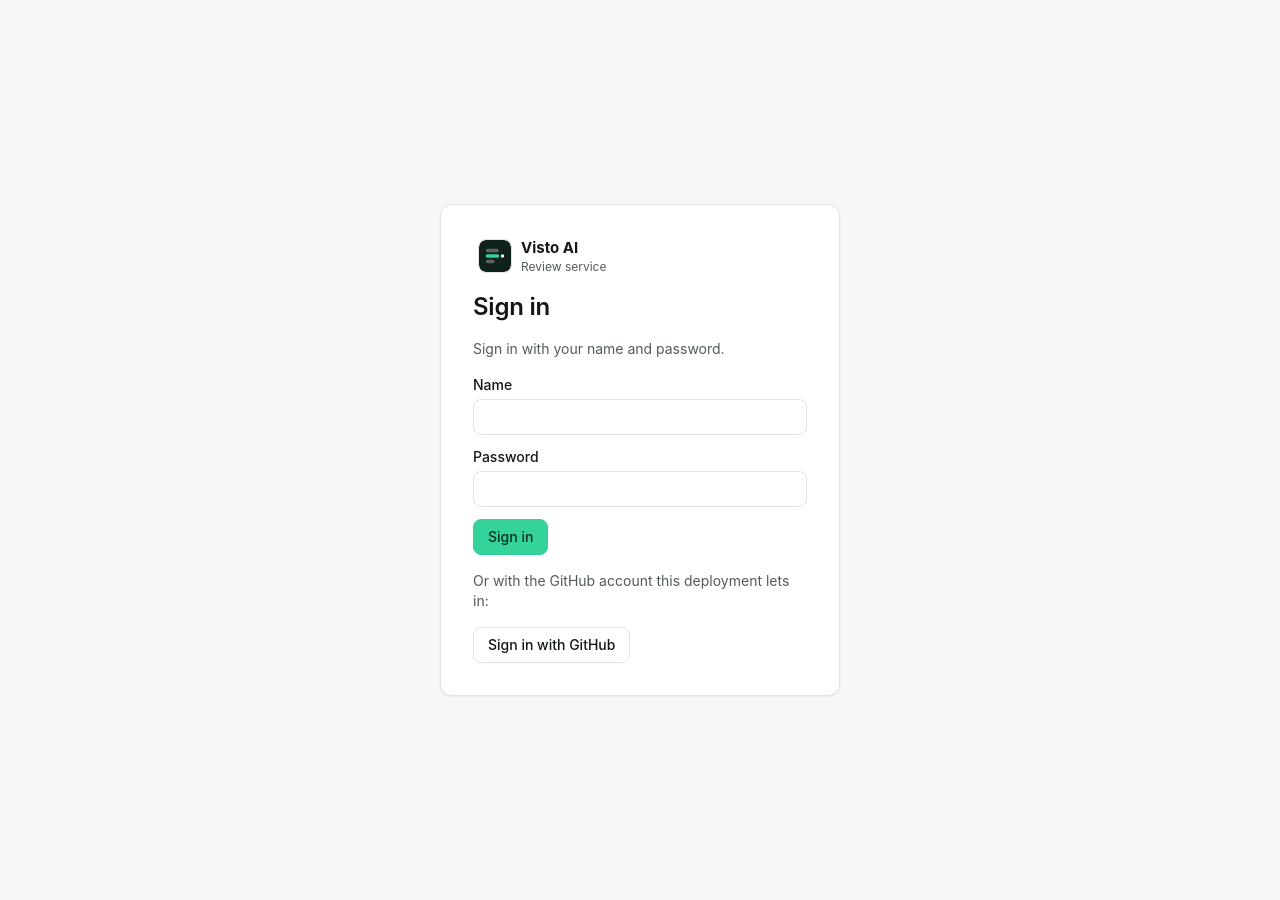
Scenario: a password sign-in reads who is signed in again and opens the page, and a refusal is said on the page
This screenshot has width=1280, height=900.
Type "octo-admin" into the field labelled "Name".
click(640, 417); type("octo-admin")  # box 473,399 -> 807,435
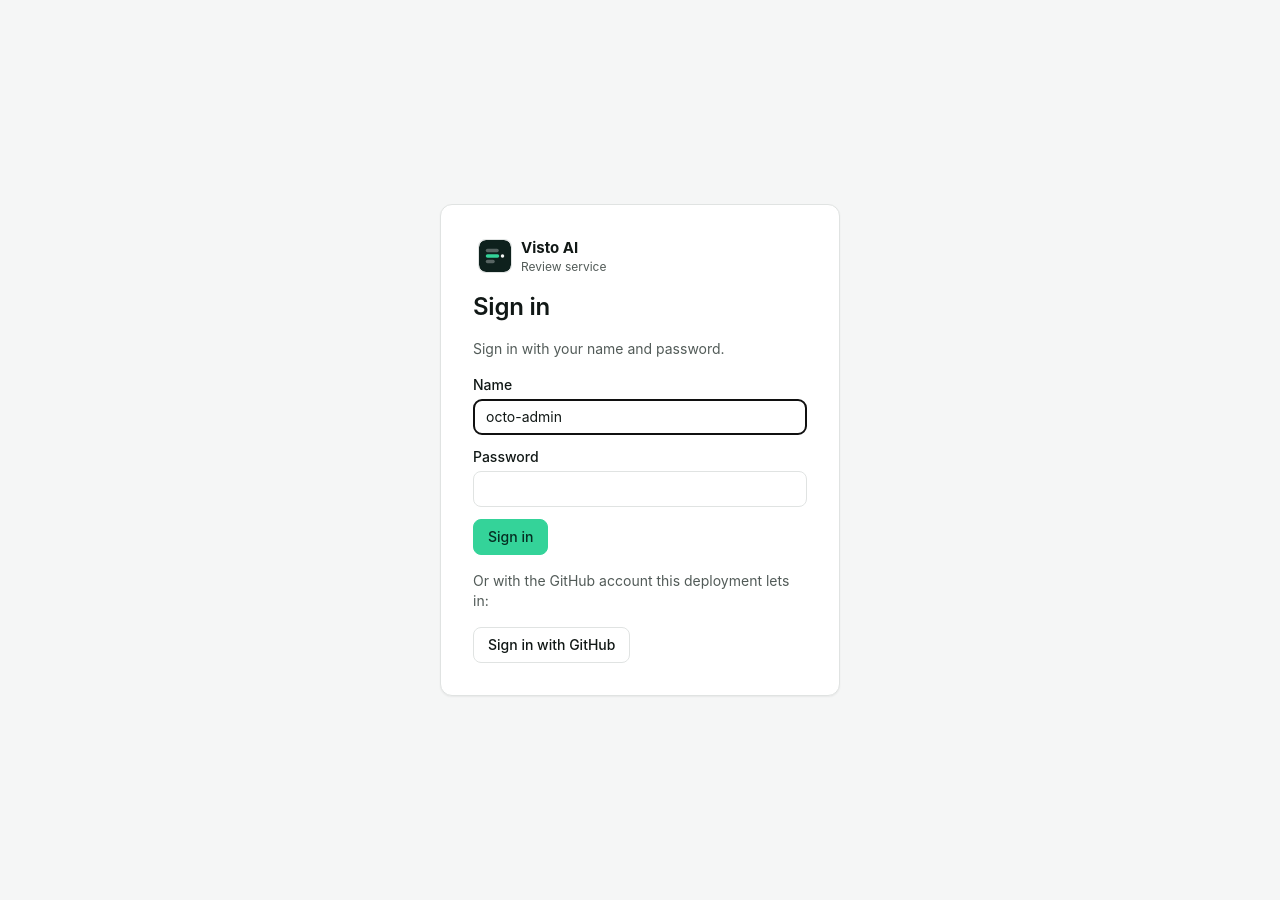
Type "another long password" into the password field labelled "Password".
click(640, 489); type("another long password")  # box 473,471 -> 807,507
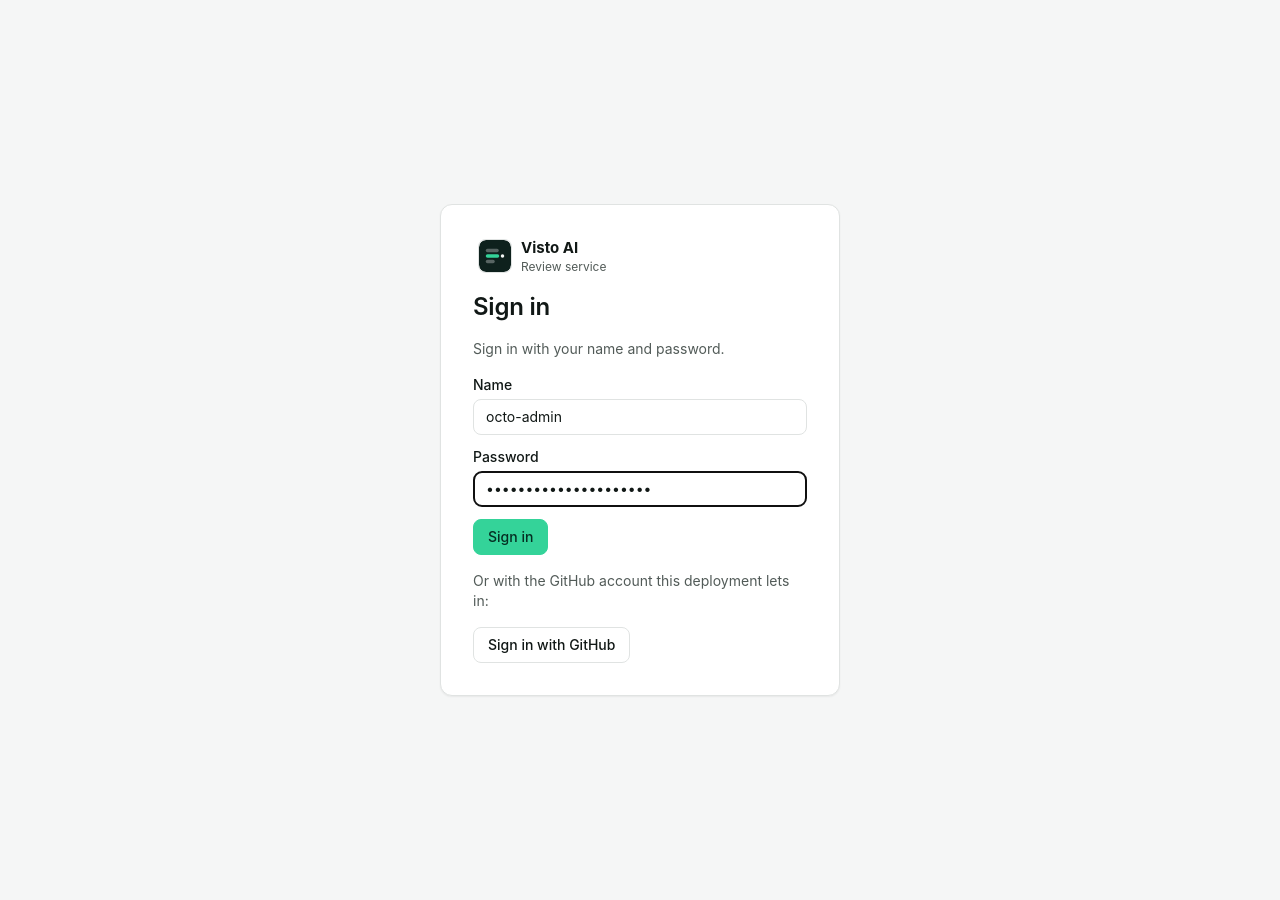
Click the button "Sign in".
click(511, 537)  # box 473,519 -> 548,555
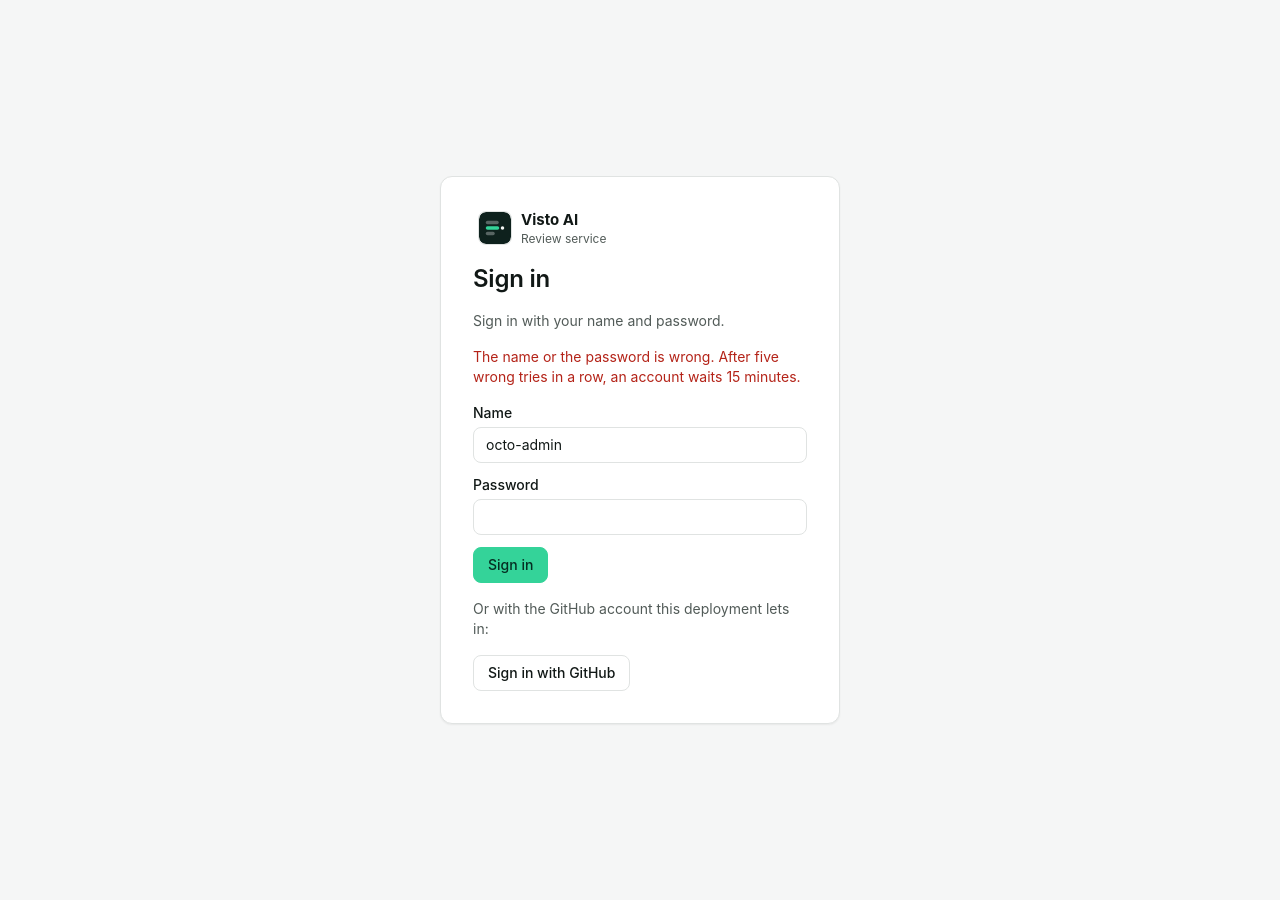
Check: the message shows "The name or the password is wrong.", box 473,348 -> 801,385
Type "a long password of mine" into the password field labelled "Password".
click(640, 517); type("a long password of mine")  # box 473,499 -> 807,535
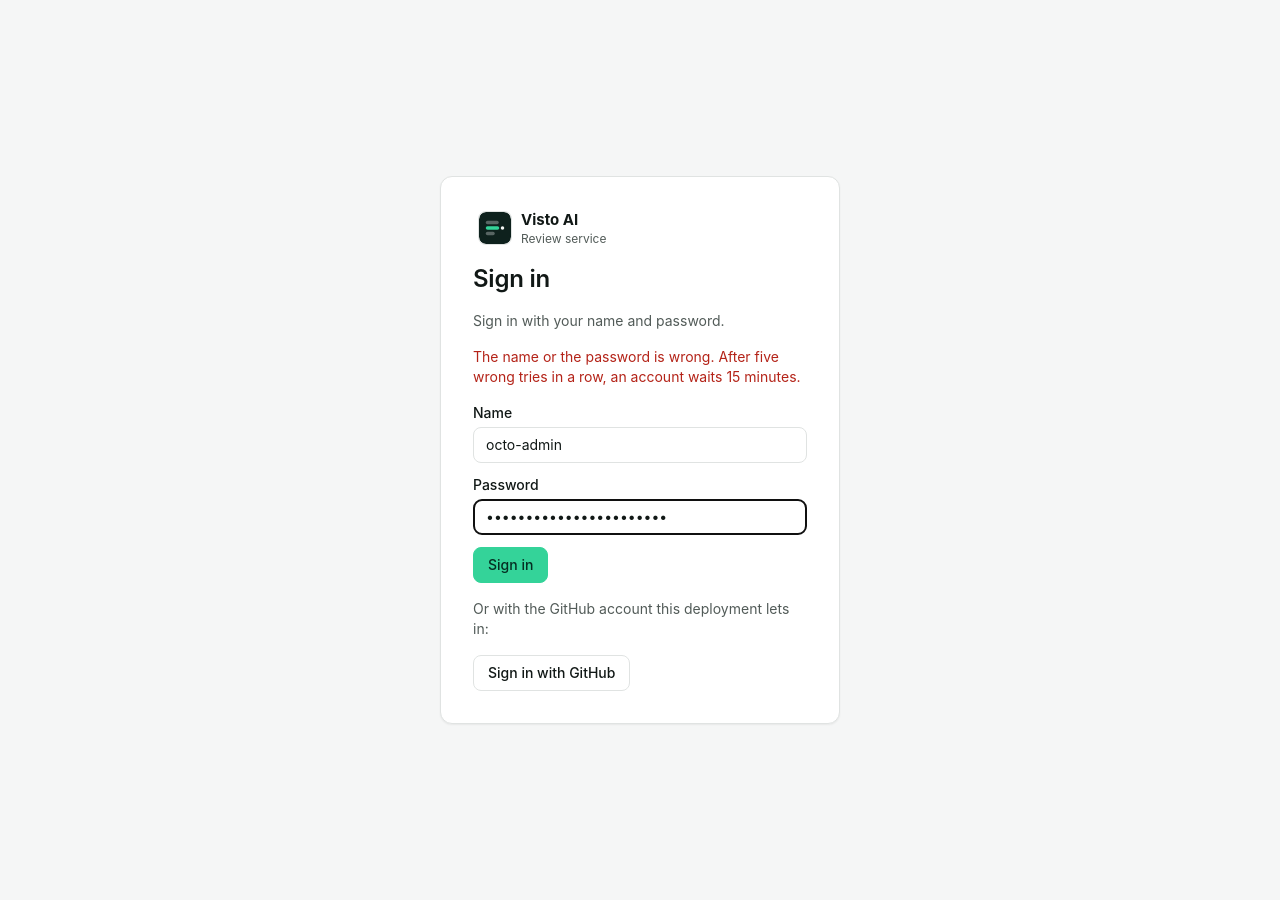
Click the button "Sign in".
click(511, 565)  # box 473,547 -> 548,583
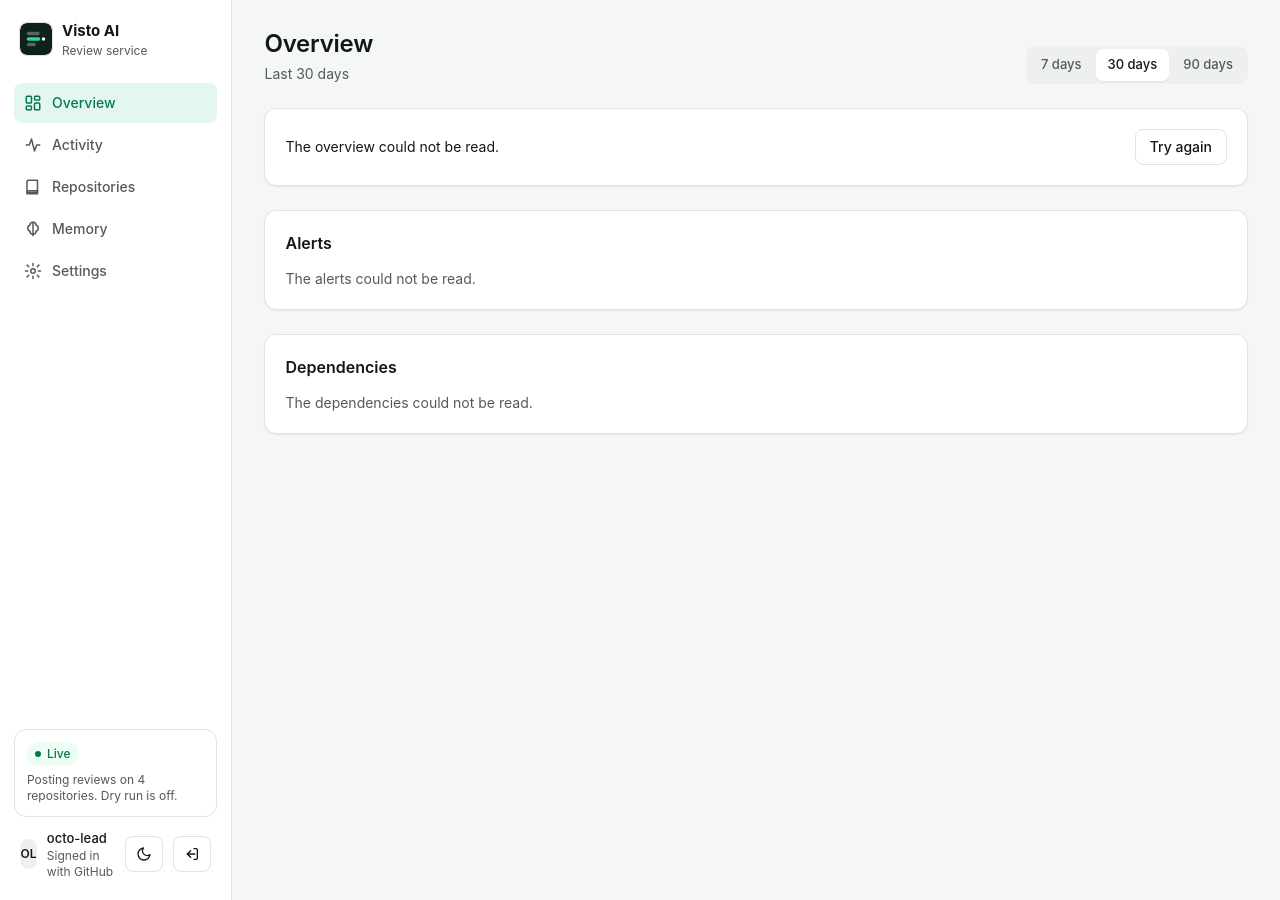
Check: the navigation bar named "Main" is shown, box 14,82 -> 218,290
Check: the heading "Overview" is shown, box 264,28 -> 373,60
